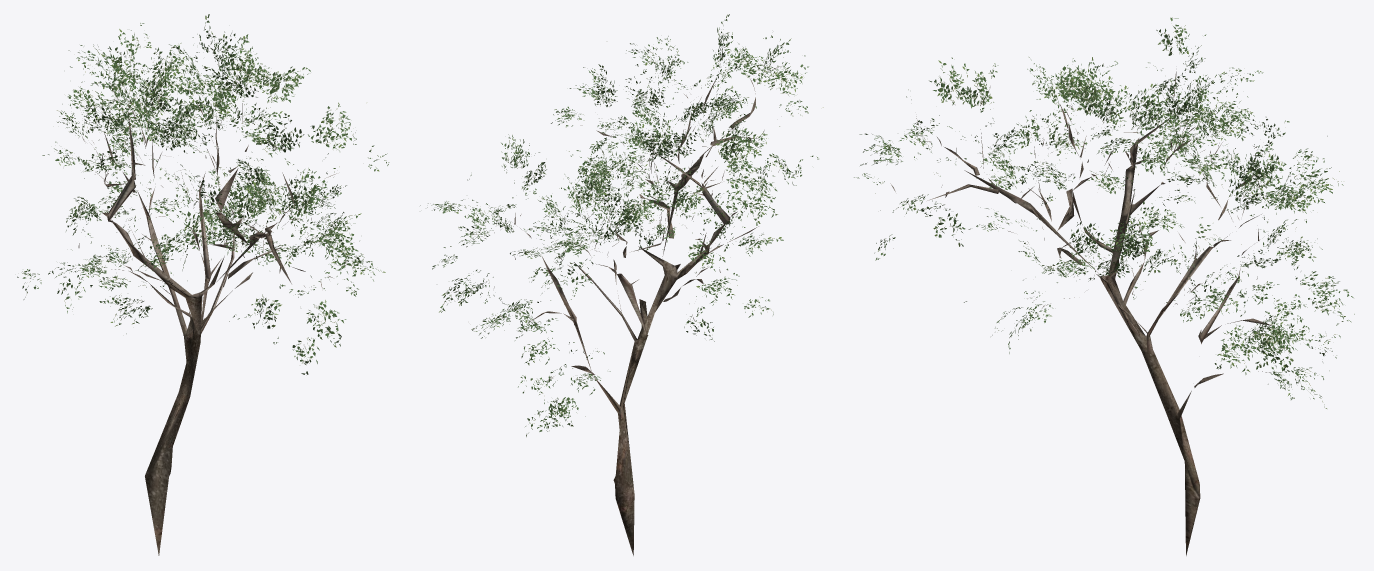
The model's file is tree_small_02.glb.
The picture shows the model from 3 angles, left to right: view 1: azimuth 30°, elevation 25°; view 2: azimuth 150°, elevation 25°; view 3: azimuth 270°, elevation 25°; orthographic projection. The views are drawn at different scales.
Parts seen in each view (by area): view 1: tree_small_02_LOD0; view 2: tree_small_02_LOD0; view 3: tree_small_02_LOD0.
Part boxes in pixels (x1,y1,x2,y2): tree_small_02_LOD0: (17, 14, 389, 555); tree_small_02_LOD0: (420, 14, 823, 555); tree_small_02_LOD0: (854, 17, 1354, 555).
Bounding box in the file's own units: 2.87 × 4.53 × 4.14.
3 materials, 3 textured.
